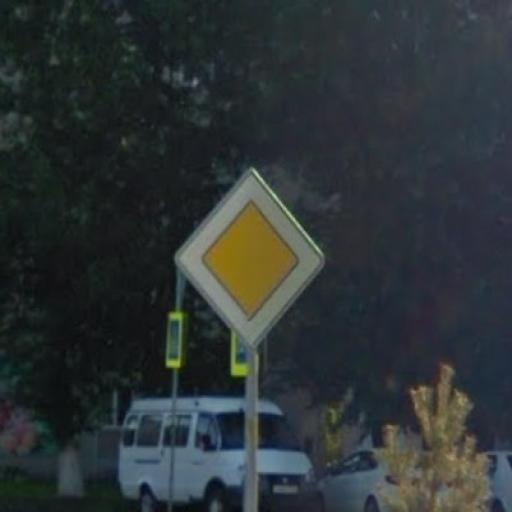traffic_sign: (174, 164, 327, 353)
